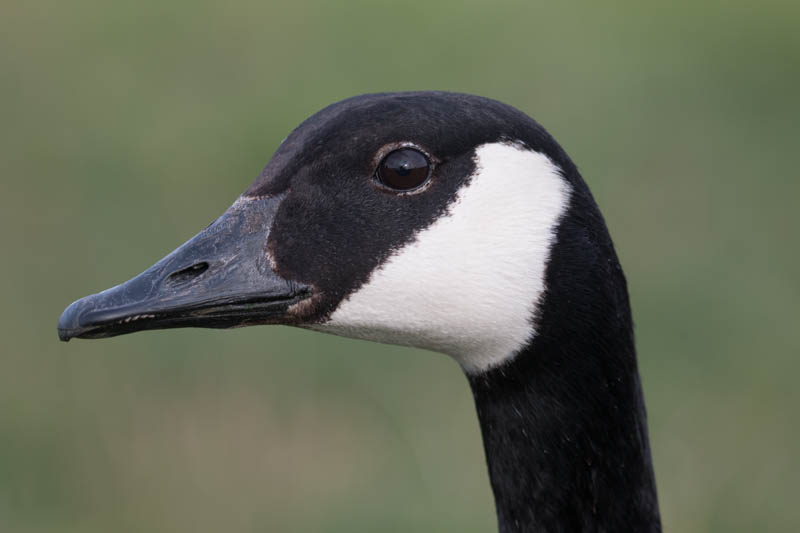goose-head: (58, 90, 631, 384)
